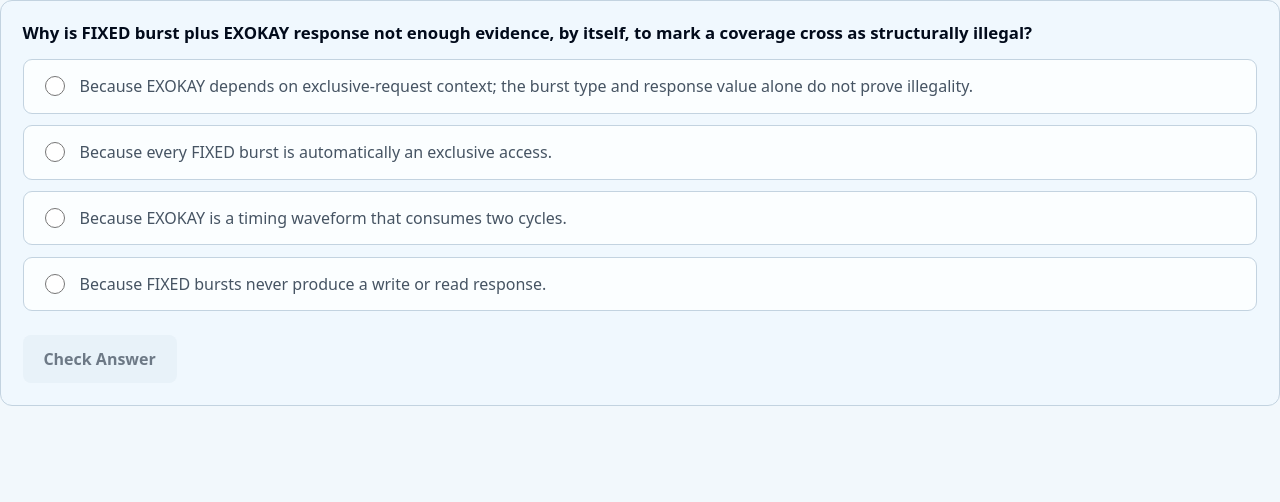
Scenario: InteractiveExercise › Integration with specific Phase 7.1 content › renders ex-axi-coverage-holes as a multiple-choice exercise and handles correct answer
// Select correct answer (index 0)
Step 1. Click the text "Because EXOKAY depends on exclusive-request context" → (526, 86), box [80, 74, 973, 98]
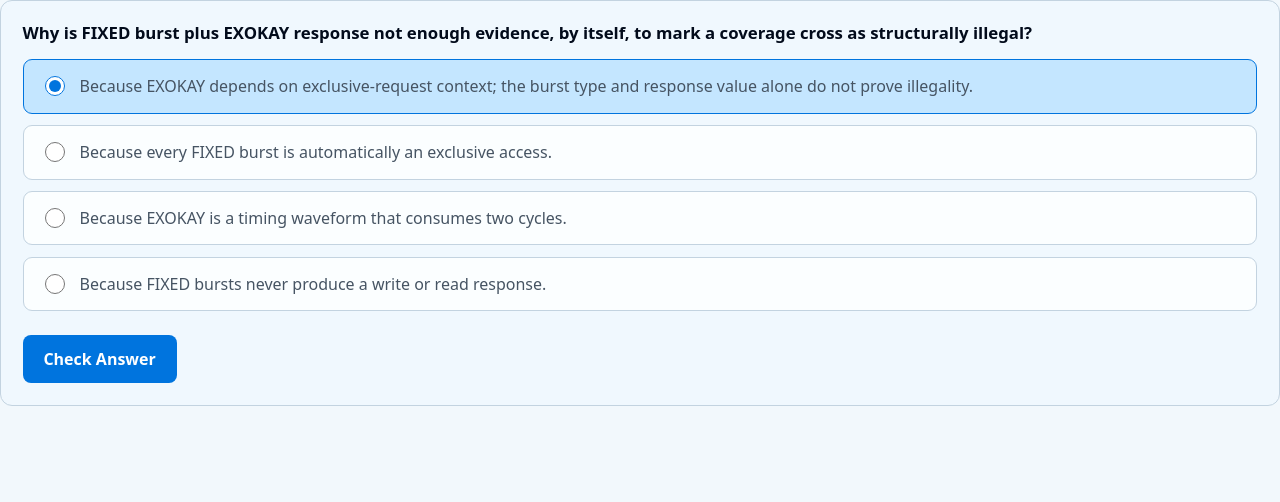
Step 2. Click the button "Check Answer" → (100, 359), box [23, 335, 177, 383]
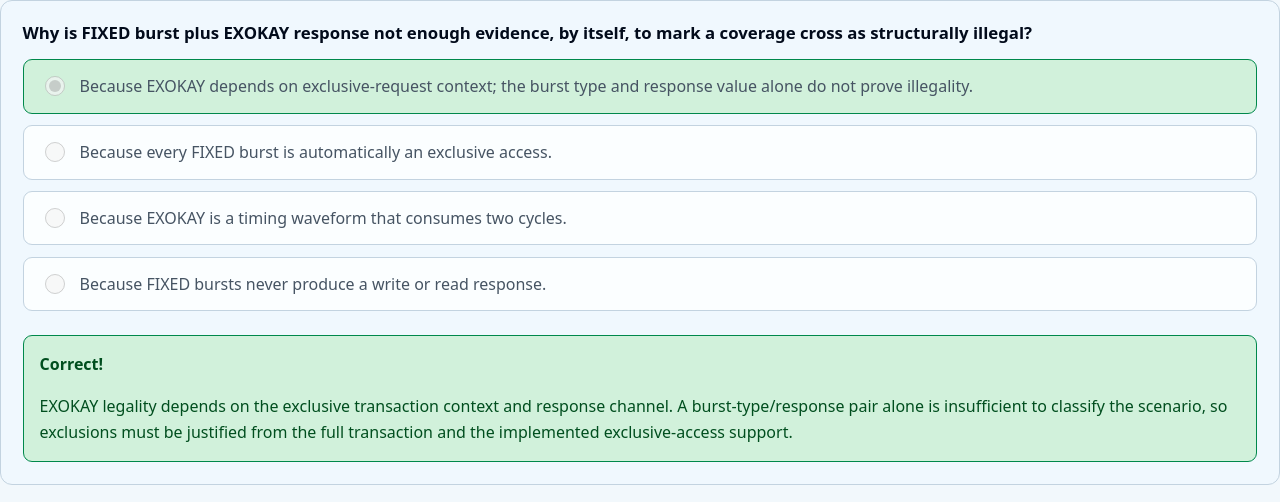
expect the text "Correct!" is shown: met, box [40, 353, 103, 375]
expect the text "EXOKAY legality depends on the exclusive transaction context" is shown: met, box [40, 395, 1227, 443]
